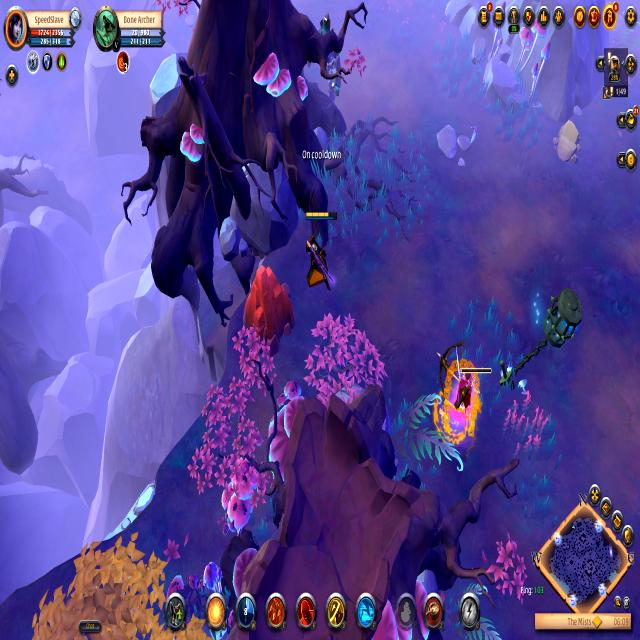10: (498, 284, 588, 387)
ore: (429, 341, 493, 437), (315, 2, 367, 99)
red: (300, 205, 337, 298)
tree: (240, 256, 296, 348)
wisp caged: (18, 531, 176, 639)
